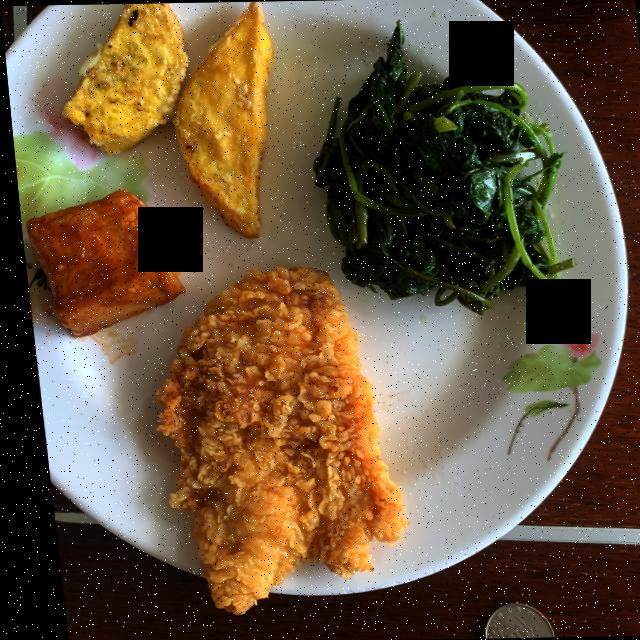coin: (470, 602, 540, 638)
creamy tofu: (21, 190, 178, 337)
fried chicken cutlet: (148, 267, 395, 614)
sweet potato leaves: (309, 23, 568, 313)
